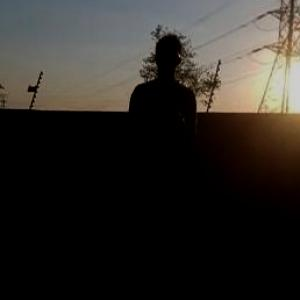follow: (100, 21, 201, 292)
